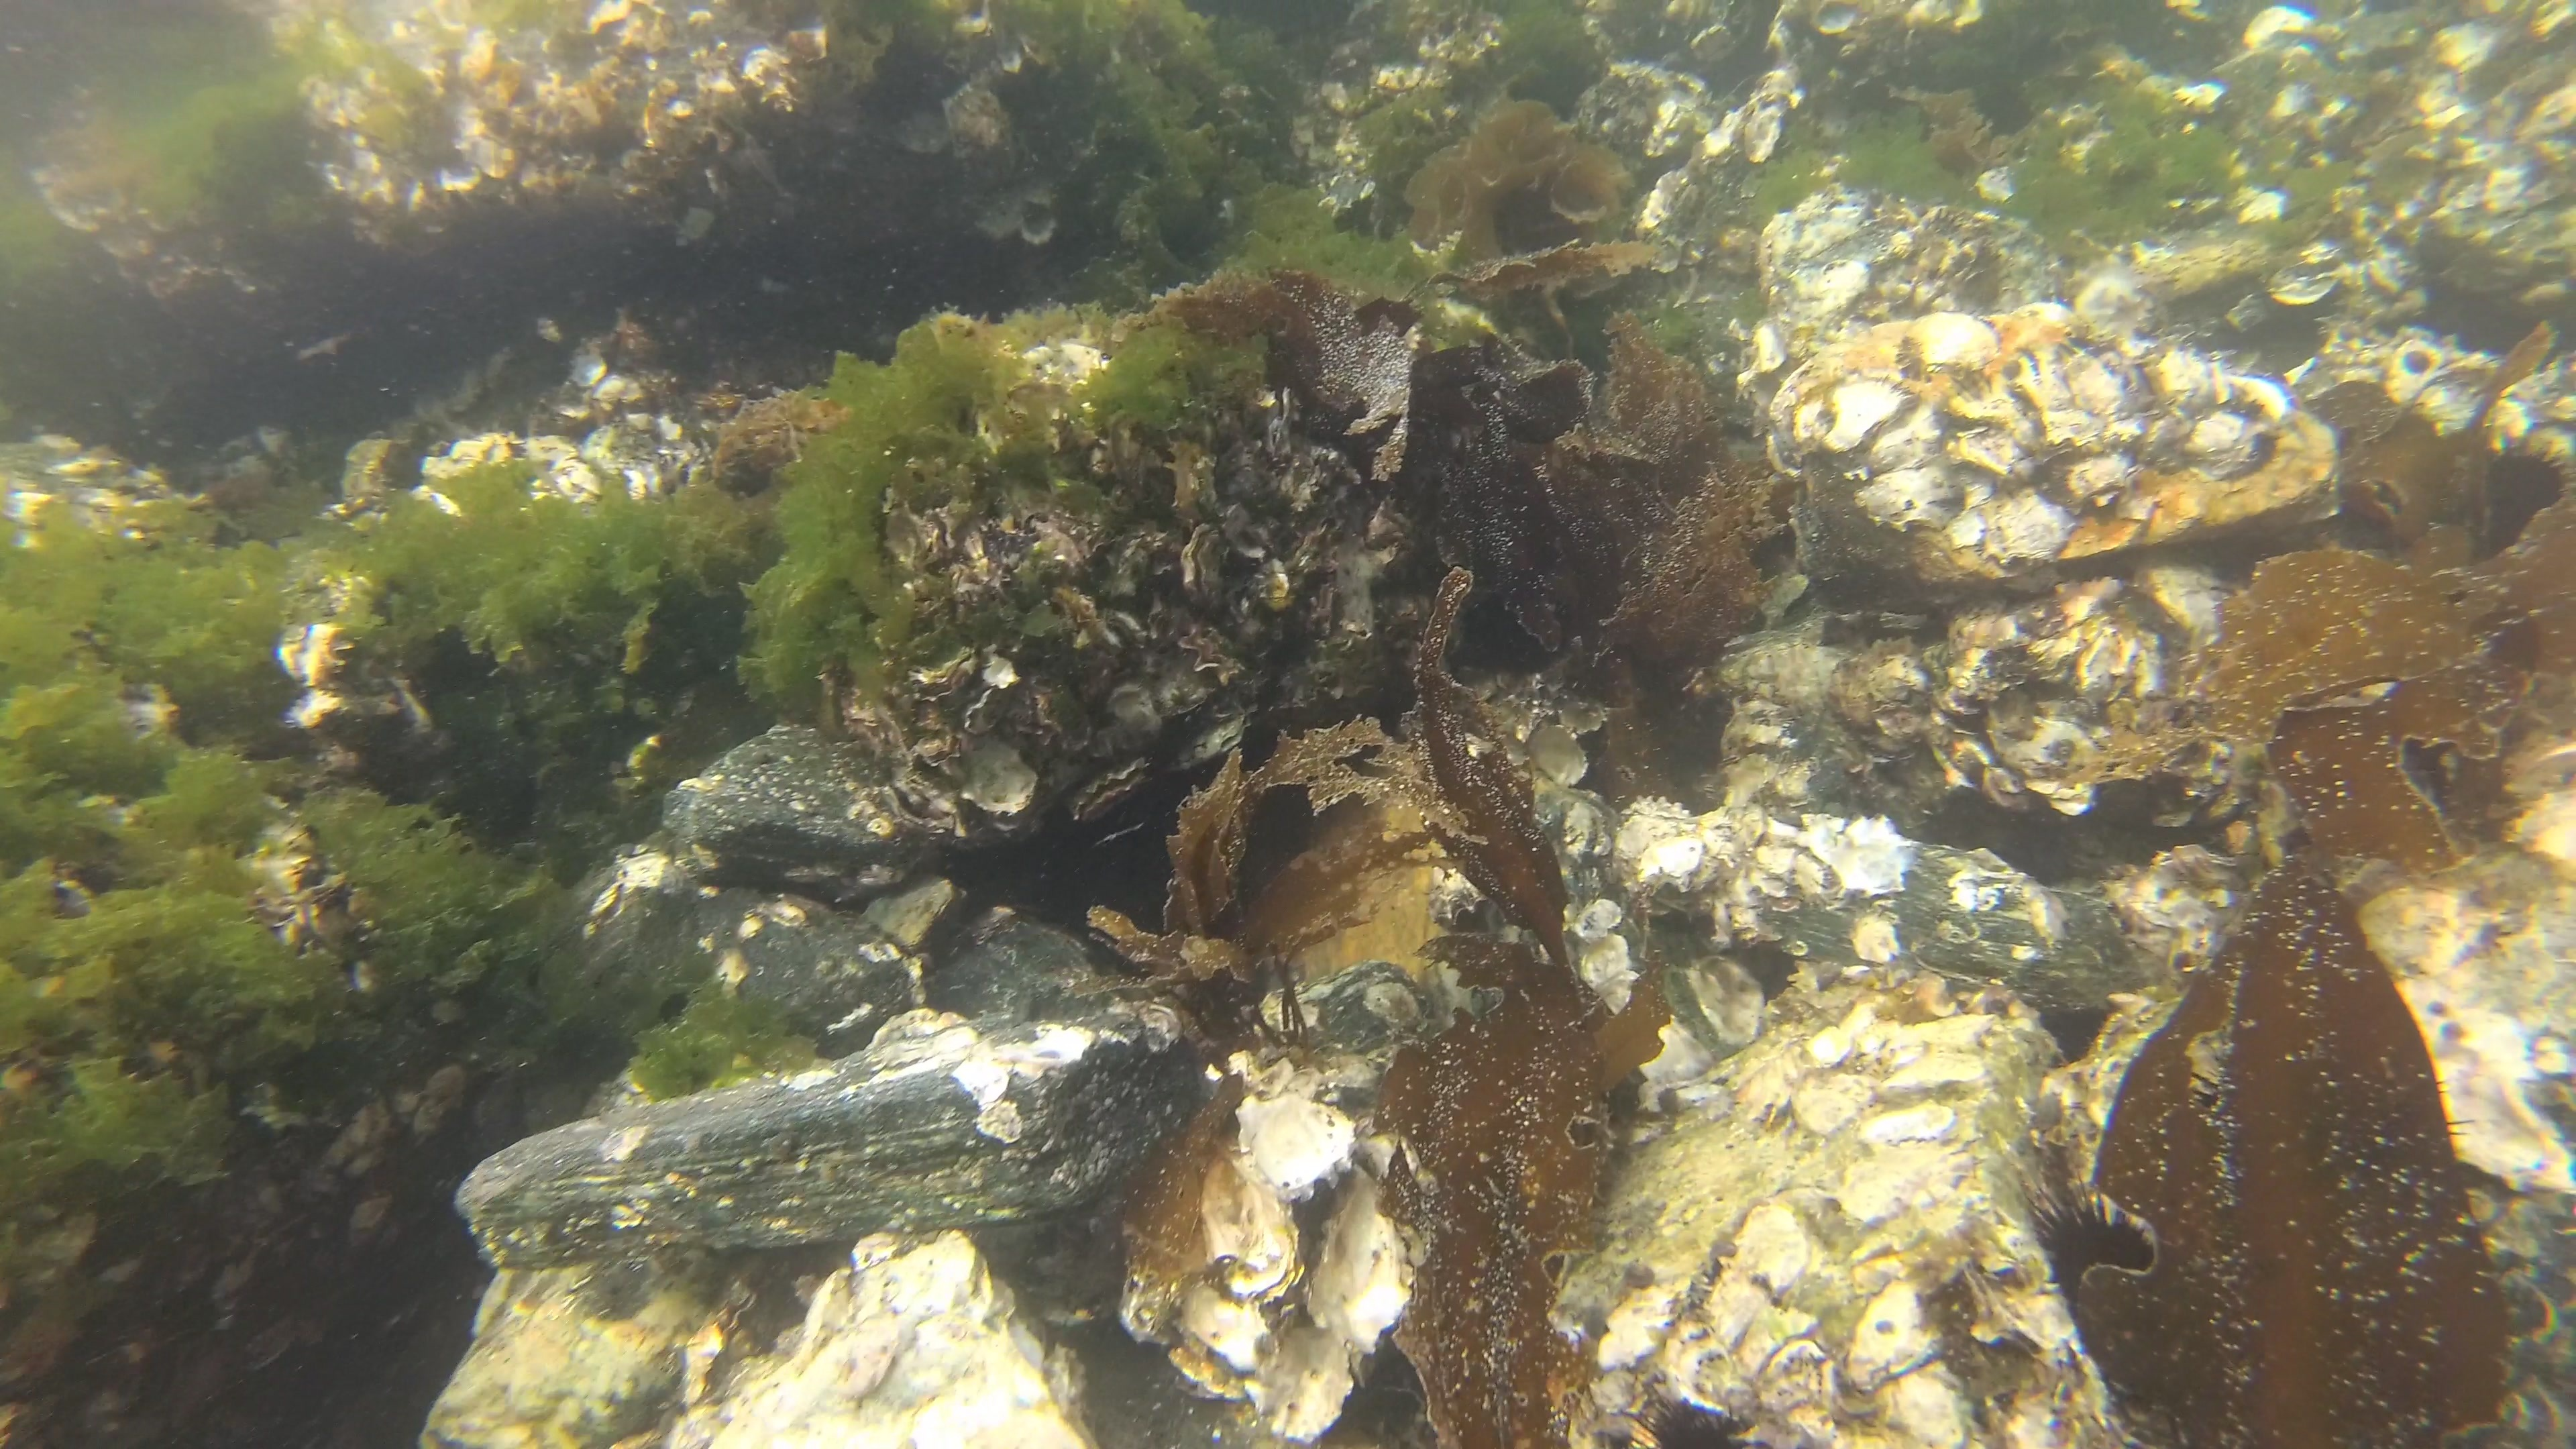echinus: (2031, 1192, 2167, 1327), (1629, 1398, 1760, 1449)
